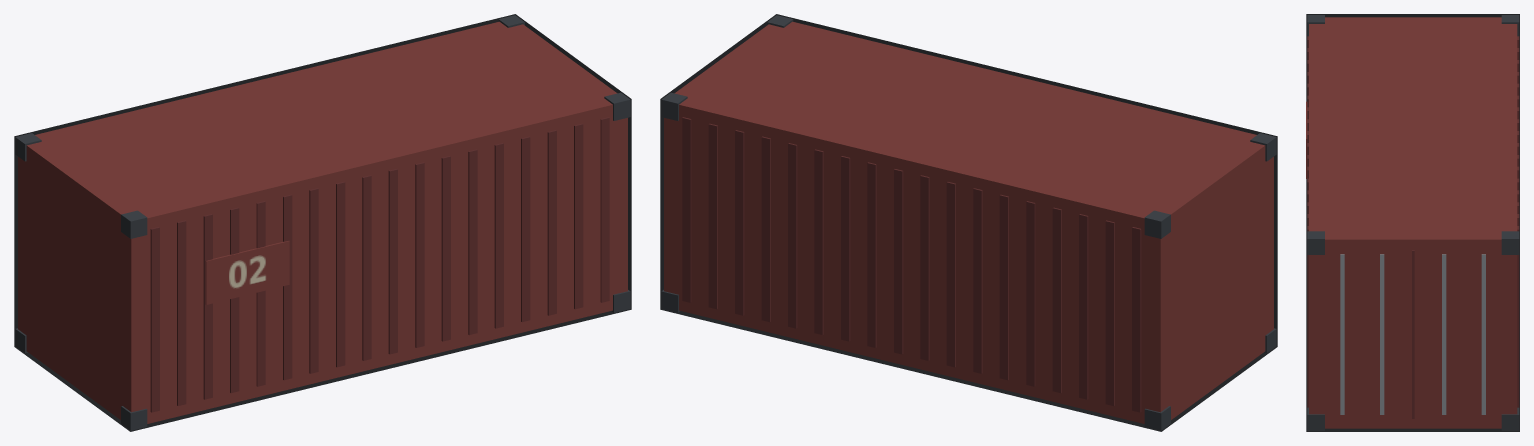
Rendered from SM_Container.glb.
3 views of the same model, side by side, from view 1: azimuth 30°, elevation 25°; view 2: azimuth 150°, elevation 25°; view 3: azimuth 270°, elevation 25° (orthographic). The views are drawn at different scales.
Visible parts, largest first — view 1: SM_Container, SM_Container_Outline; view 2: SM_Container, SM_Container_Outline; view 3: SM_Container, SM_Container_Outline.
Boxes of the visible parts, box(x1,y1,x2,y2) form: SM_Container: box(15, 15, 630, 430); SM_Container_Outline: box(14, 14, 631, 431); SM_Container: box(661, 15, 1276, 430); SM_Container_Outline: box(660, 14, 1277, 431); SM_Container: box(1306, 15, 1519, 430); SM_Container_Outline: box(1306, 14, 1519, 431).
Size of the model in its own units: 6.02 by 2.42 by 2.42.
2 materials, 1 textured.
